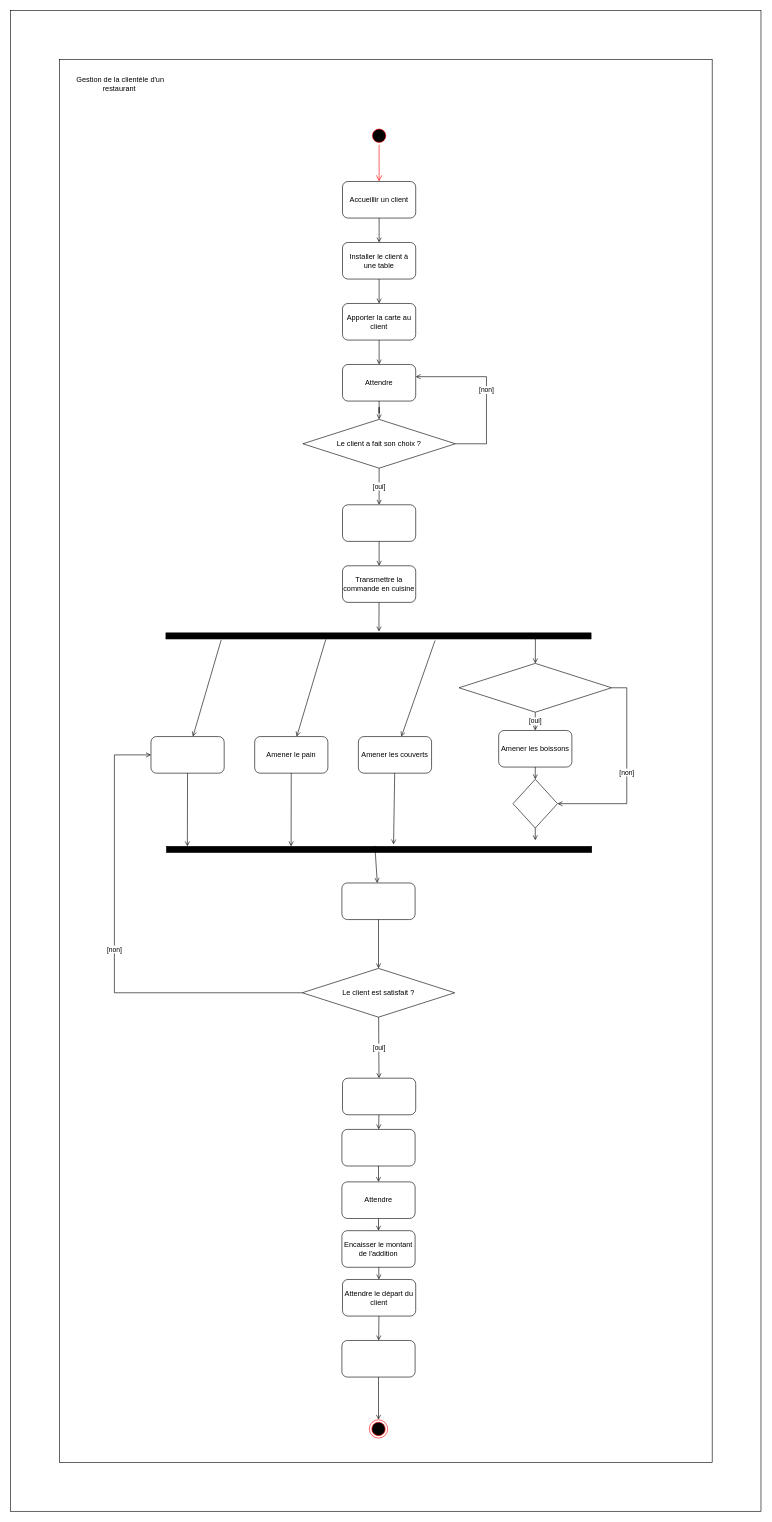
This 772x1522 diagram has some shape labels left out. Here are the shapes that lost their labels. From the top down, the centre of each, then its label:
At point 379,522: "Prendre la commande du client".
At point 535,687: "Le client a soif ?".
At point 187,754: "Préparer la commande".
At point 378,901: "Apporter la commande".
At point 379,1096: "Attendre que le client ait fini".
At point 378,1147: "Déposer l'addition".
At point 378,1358: "Nettoyer la table".
